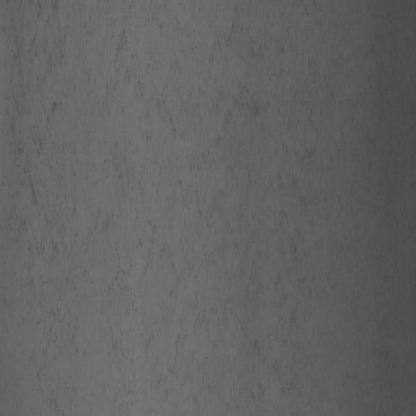silk_spot: (115, 52, 333, 356)
